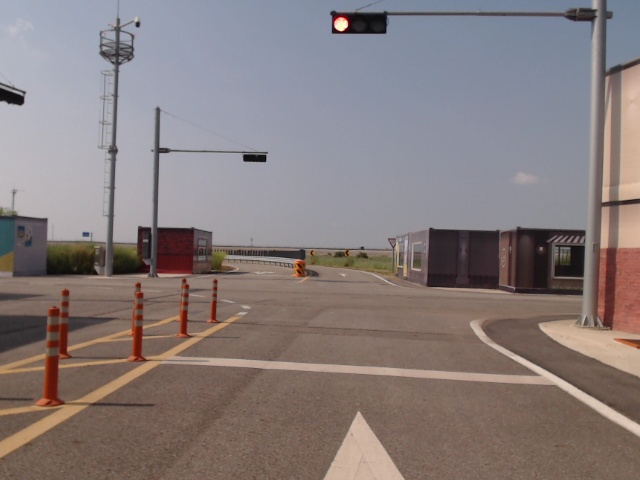red_3: (331, 14, 388, 34)
